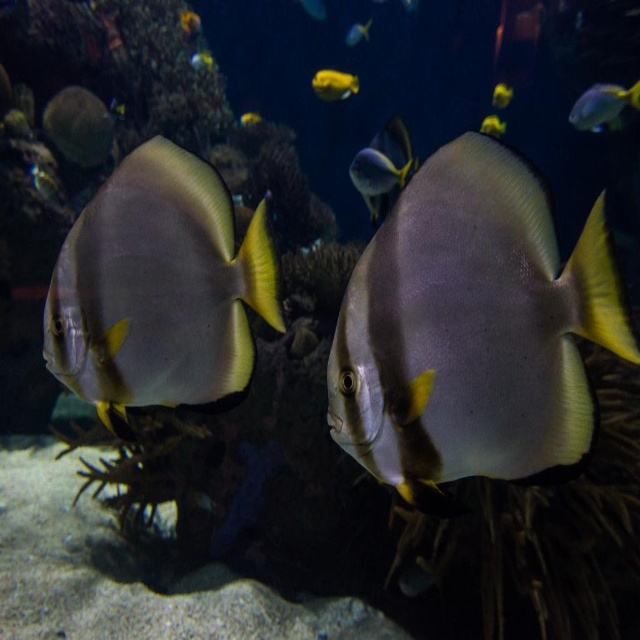Fish: (324, 127, 640, 513), (42, 132, 286, 440), (42, 84, 119, 162), (570, 86, 640, 130), (311, 69, 359, 100), (344, 17, 373, 47), (492, 83, 514, 109), (302, 0, 327, 22), (480, 114, 504, 136), (189, 51, 213, 66), (241, 112, 260, 125)
